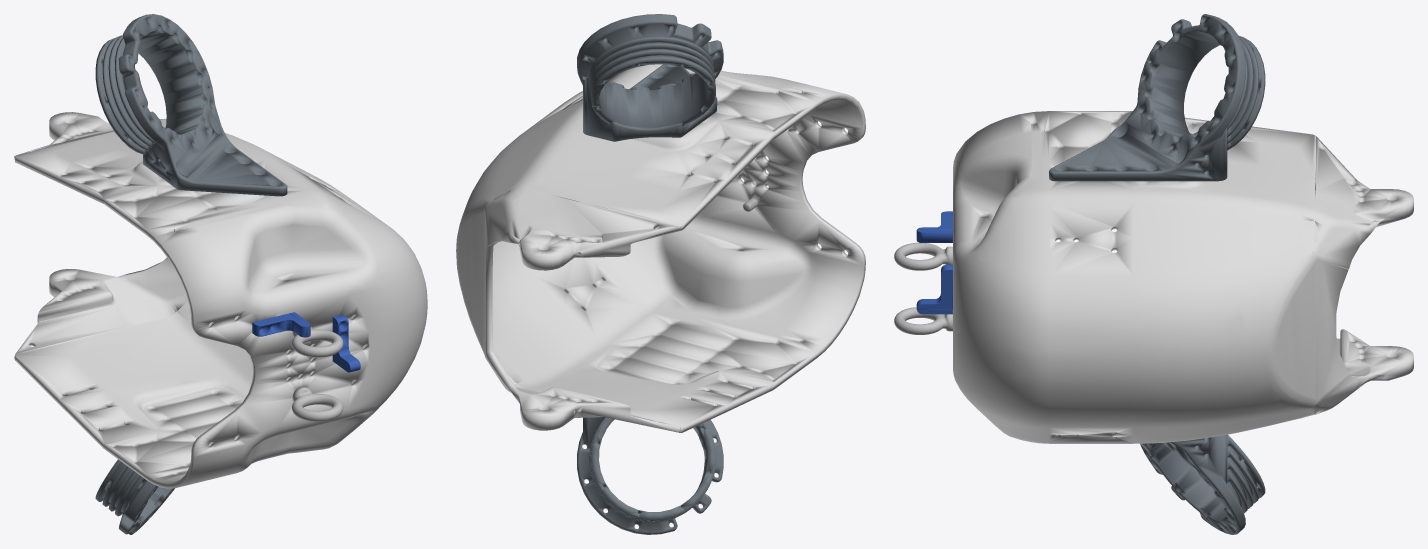
File: torso_cycloidmounts.obj
3 views of the same model, side by side, from view 1: azimuth 30°, elevation 25°; view 2: azimuth 150°, elevation 25°; view 3: azimuth 270°, elevation 25° (orthographic). The views are drawn at different scales.
Size of the model in its own units: 0.262 by 0.4678 by 0.4318.
